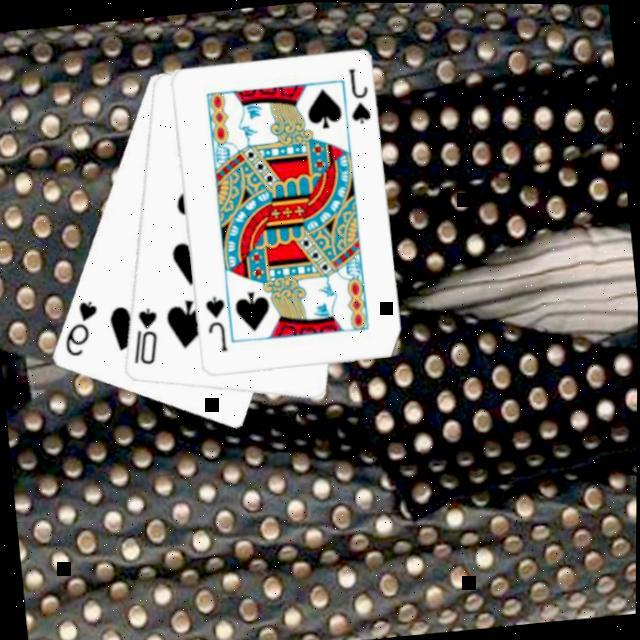10S: (125, 304, 165, 370)
6S: (57, 298, 105, 362)
JS: (201, 293, 232, 357), (343, 65, 373, 129)
